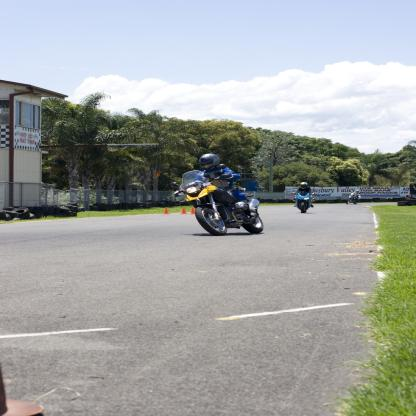Helmet: (198, 152, 219, 169), (301, 182, 309, 191)
